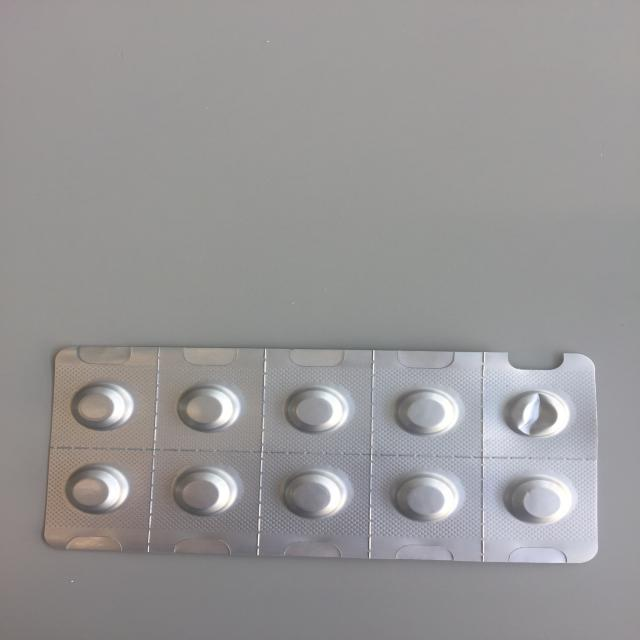Empty: (499, 389, 572, 438)
Pill: (167, 462, 247, 520), (502, 472, 575, 530), (61, 381, 140, 434), (387, 470, 464, 524), (277, 384, 356, 436), (172, 378, 245, 434), (59, 461, 133, 516), (278, 467, 350, 522), (391, 386, 464, 438)
